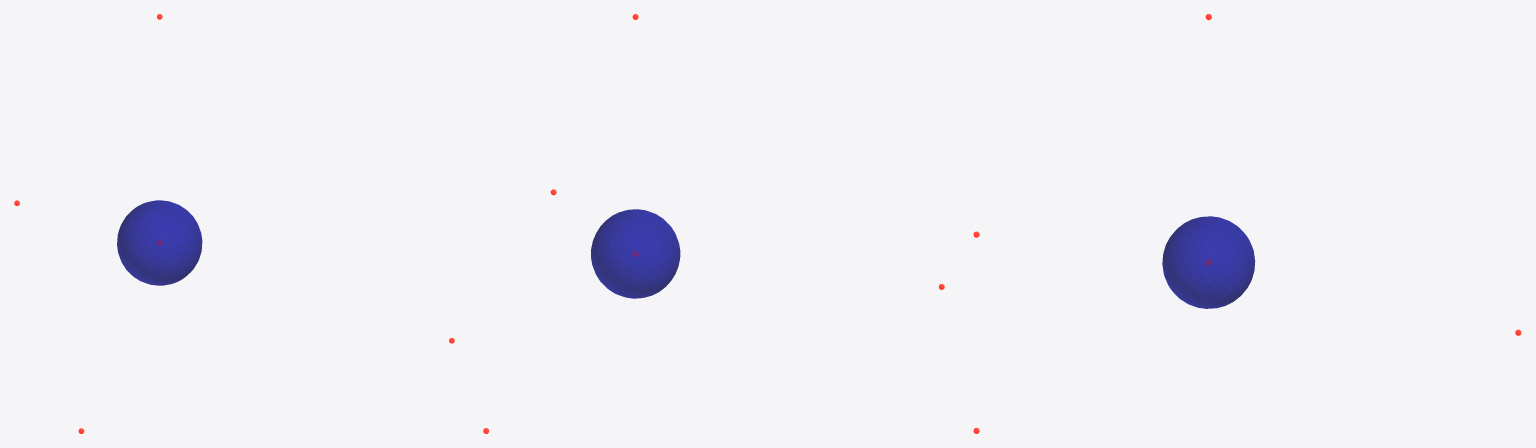
The model's file is asset.glb.
3 renders of one model, left to right at view 1: azimuth 30°, elevation 25°; view 2: azimuth 150°, elevation 25°; view 3: azimuth 270°, elevation 25°, orthographic. The views are drawn at different scales.
Visible parts, largest first — view 1: Sphere.002; view 2: Sphere.002; view 3: Sphere.002.
Part boxes in pixels (x1,y1,x2,y2): Sphere.002: (117,200,202,285); Sphere.002: (591,209,680,298); Sphere.002: (1162,216,1255,308).
Bounding box in the file's own units: 30.4 × 22.9 × 35.4.
